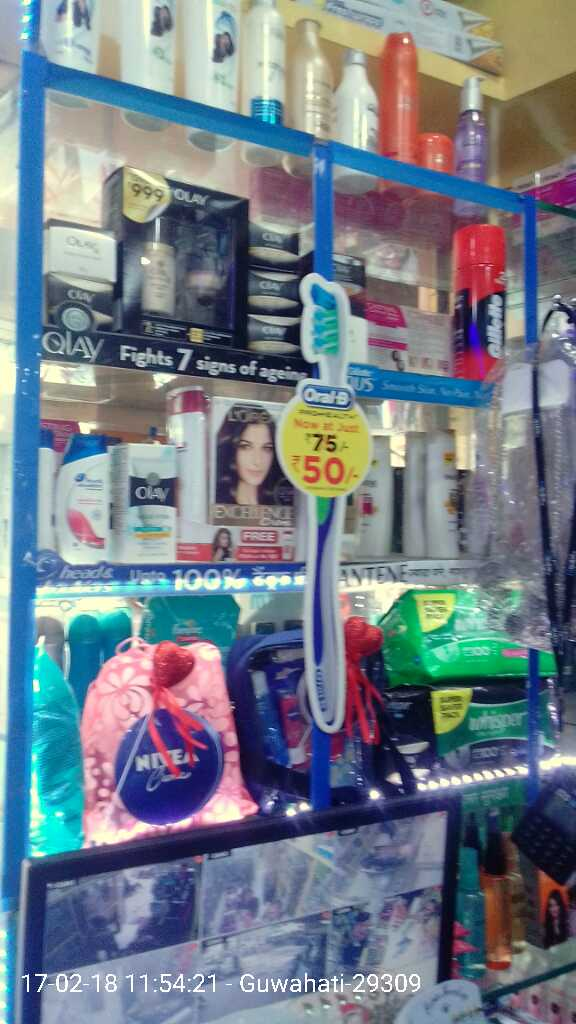gillete: (449, 223, 512, 386)
